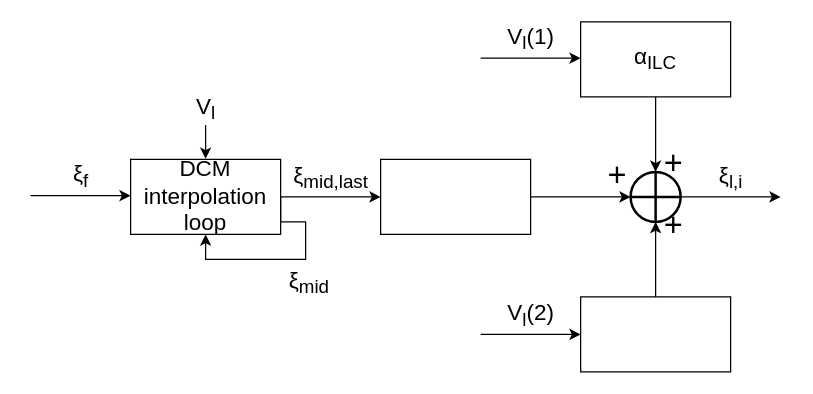
This 813x394 diagram has some shape labels left out. Each missing label, with the centre of its shape:
ɣ ILC: the point at 455,196
β ILC: the point at 655,334
